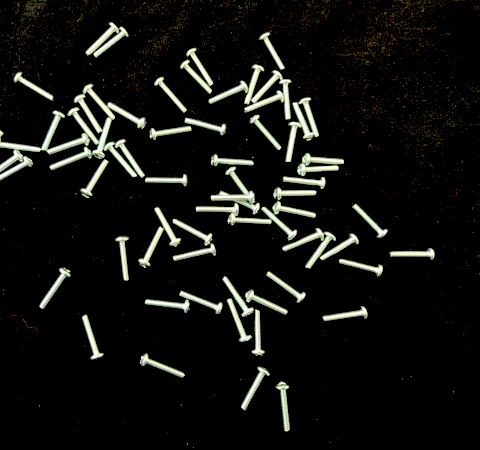longscrew: (39, 267, 75, 311), (352, 204, 390, 241), (103, 141, 139, 180), (241, 367, 272, 412), (140, 352, 188, 381), (222, 276, 255, 318), (261, 205, 298, 242), (153, 76, 187, 116), (67, 106, 100, 147), (266, 272, 307, 305), (179, 59, 215, 96), (80, 159, 112, 200), (83, 82, 116, 121), (92, 27, 131, 60), (305, 232, 338, 271), (138, 226, 167, 270), (14, 72, 55, 103), (226, 298, 253, 345), (73, 93, 103, 135), (85, 22, 120, 58), (179, 290, 224, 318), (81, 315, 107, 363), (245, 289, 289, 317), (115, 139, 145, 180), (249, 115, 282, 152), (172, 218, 214, 247), (107, 101, 147, 131), (185, 47, 215, 87), (154, 207, 182, 249), (207, 81, 249, 109), (251, 70, 283, 106), (49, 147, 93, 173), (320, 234, 360, 262), (40, 111, 66, 153), (219, 190, 261, 216), (282, 228, 324, 254), (46, 133, 91, 157), (259, 31, 286, 71), (0, 156, 34, 186), (92, 117, 115, 161), (113, 235, 134, 283), (173, 243, 218, 265), (338, 259, 385, 280), (244, 90, 285, 114), (184, 117, 228, 139), (298, 97, 321, 139), (292, 102, 315, 142), (243, 64, 265, 105), (272, 201, 317, 221), (144, 298, 191, 317), (322, 305, 369, 324), (275, 381, 292, 433), (224, 166, 251, 198), (149, 124, 193, 143), (0, 149, 24, 183), (388, 247, 436, 264), (195, 202, 240, 220), (0, 136, 42, 155), (250, 309, 266, 358), (284, 122, 302, 164), (144, 173, 189, 189), (210, 154, 255, 170), (301, 152, 345, 168), (281, 177, 327, 192), (278, 78, 294, 121), (273, 187, 317, 202), (228, 215, 271, 230), (297, 163, 340, 178), (211, 191, 256, 205), (0, 130, 5, 169)
